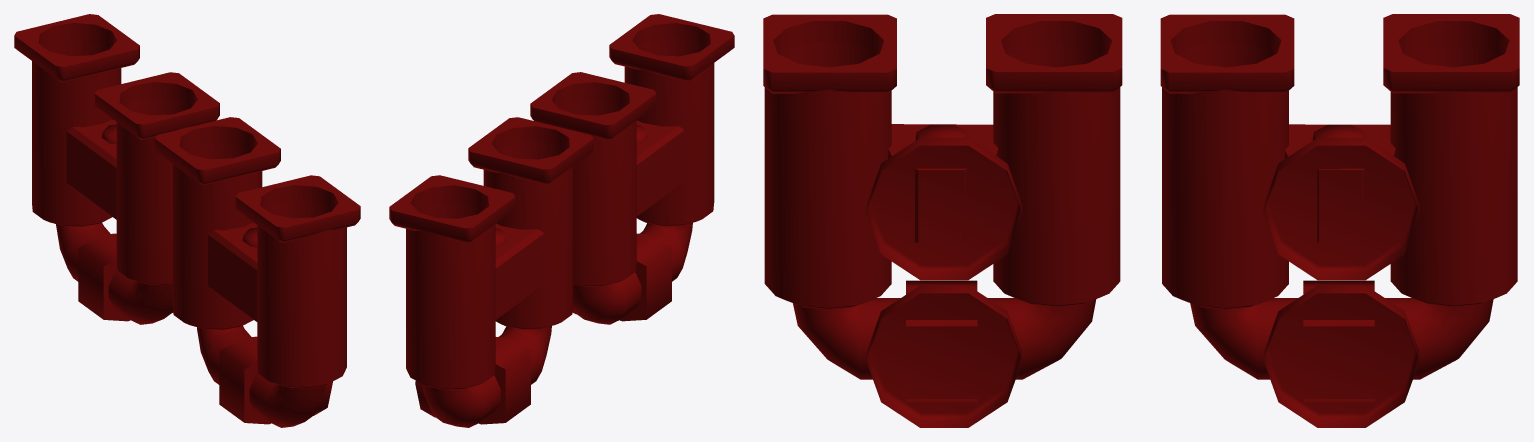
Rendered from Filter_Housing_Floor_Fixed.fbx.
The picture shows the model from 3 angles, left to right: view 1: azimuth 30°, elevation 25°; view 2: azimuth 150°, elevation 25°; view 3: azimuth 270°, elevation 25°; orthographic projection. The views are drawn at different scales.
Visible parts, largest first — view 1: Filters_Housing_Floor; view 2: Filters_Housing_Floor; view 3: Filters_Housing_Floor.
Part boxes in pixels (<box>): Filters_Housing_Floor: <box>14,14,360,427</box>; Filters_Housing_Floor: <box>389,14,734,427</box>; Filters_Housing_Floor: <box>763,14,1519,427</box>.
Size of the model in its own units: 0.2242 by 0.5902 by 1.15.
